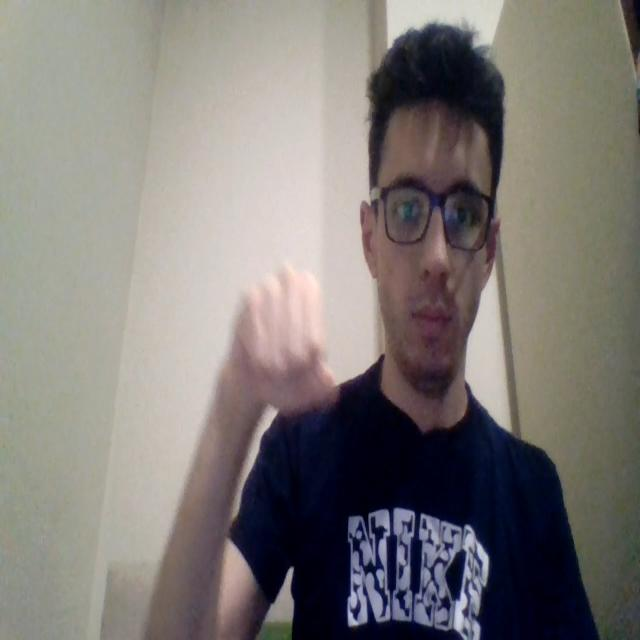yes: (232, 260, 337, 414)
